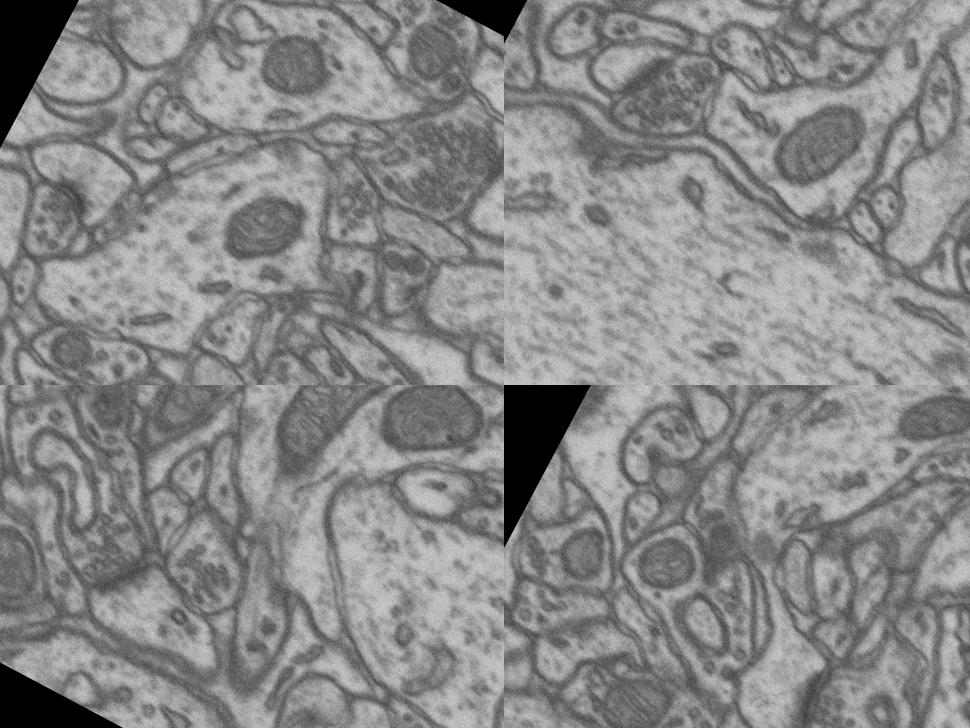mitochondria: (250, 385, 427, 514), (746, 64, 890, 218), (360, 385, 500, 490), (201, 170, 316, 286), (237, 9, 352, 122), (615, 512, 713, 609), (384, 4, 478, 99), (579, 650, 688, 728), (537, 504, 627, 594), (883, 385, 970, 472), (136, 385, 236, 457), (23, 308, 115, 385), (0, 508, 60, 623), (47, 346, 194, 385), (569, 0, 687, 32)
